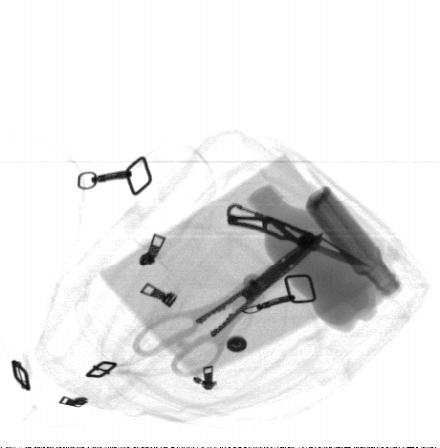Knife: (226, 205, 375, 267)
Scissors: (133, 232, 322, 378)
